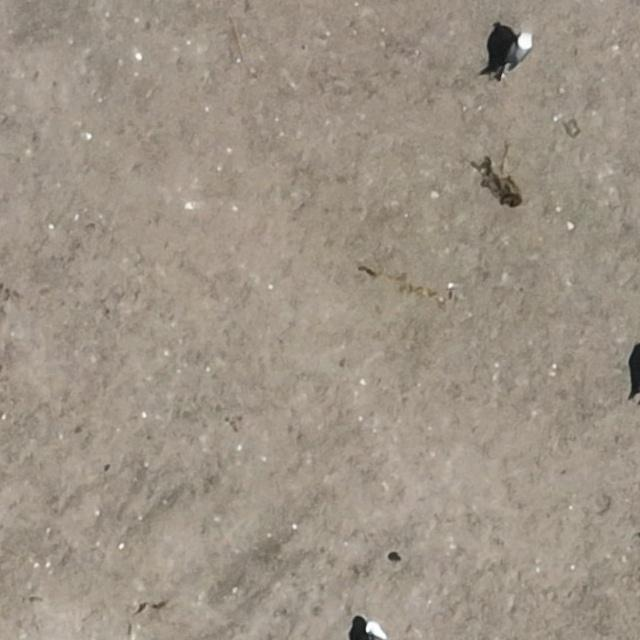umineko: (505, 38, 529, 69)
